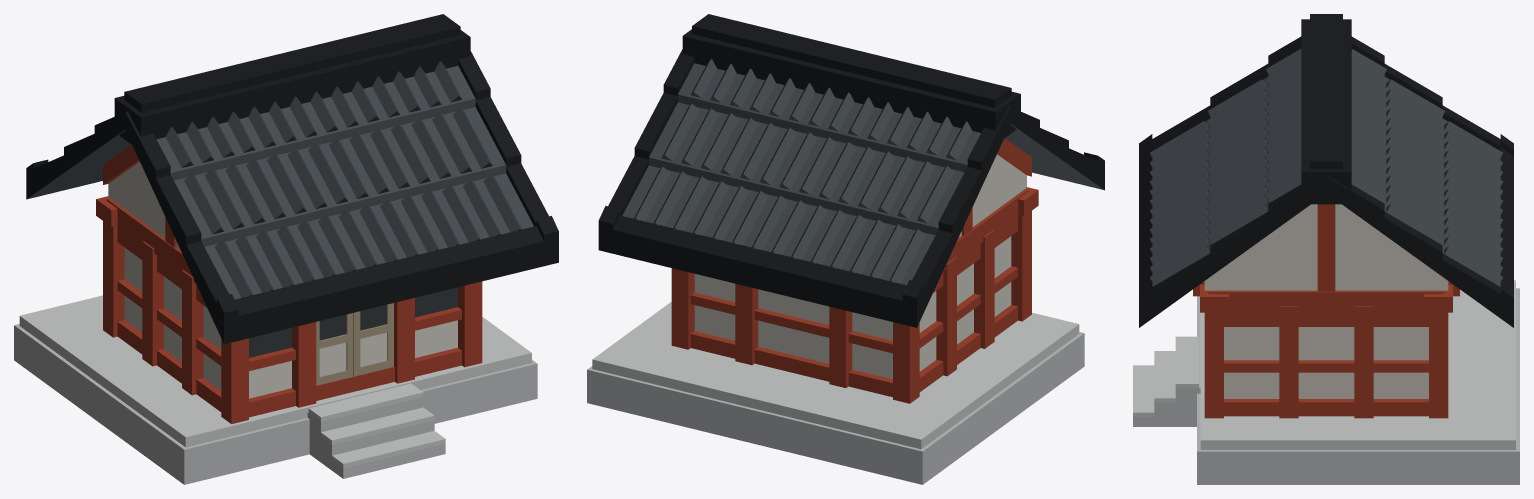
Rendered from small-shrine-hall-cb8b25.glb.
3 views of the same model, side by side, from view 1: azimuth 30°, elevation 25°; view 2: azimuth 150°, elevation 25°; view 3: azimuth 270°, elevation 25° (orthographic). The views are drawn at different scales.
Visible parts, largest first — view 1: shrine-hall-shell, door-r-leaf, door-l-leaf; view 2: shrine-hall-shell; view 3: shrine-hall-shell.
Part boxes in pixels (x1,y1,x2,y2): shrine-hall-shell: (14, 14, 558, 484); door-r-leaf: (353, 303, 393, 376); door-l-leaf: (316, 313, 353, 385); shrine-hall-shell: (587, 14, 1104, 484); shrine-hall-shell: (1133, 14, 1519, 484).
Size of the model in its own units: 4 by 3.6 by 4.
